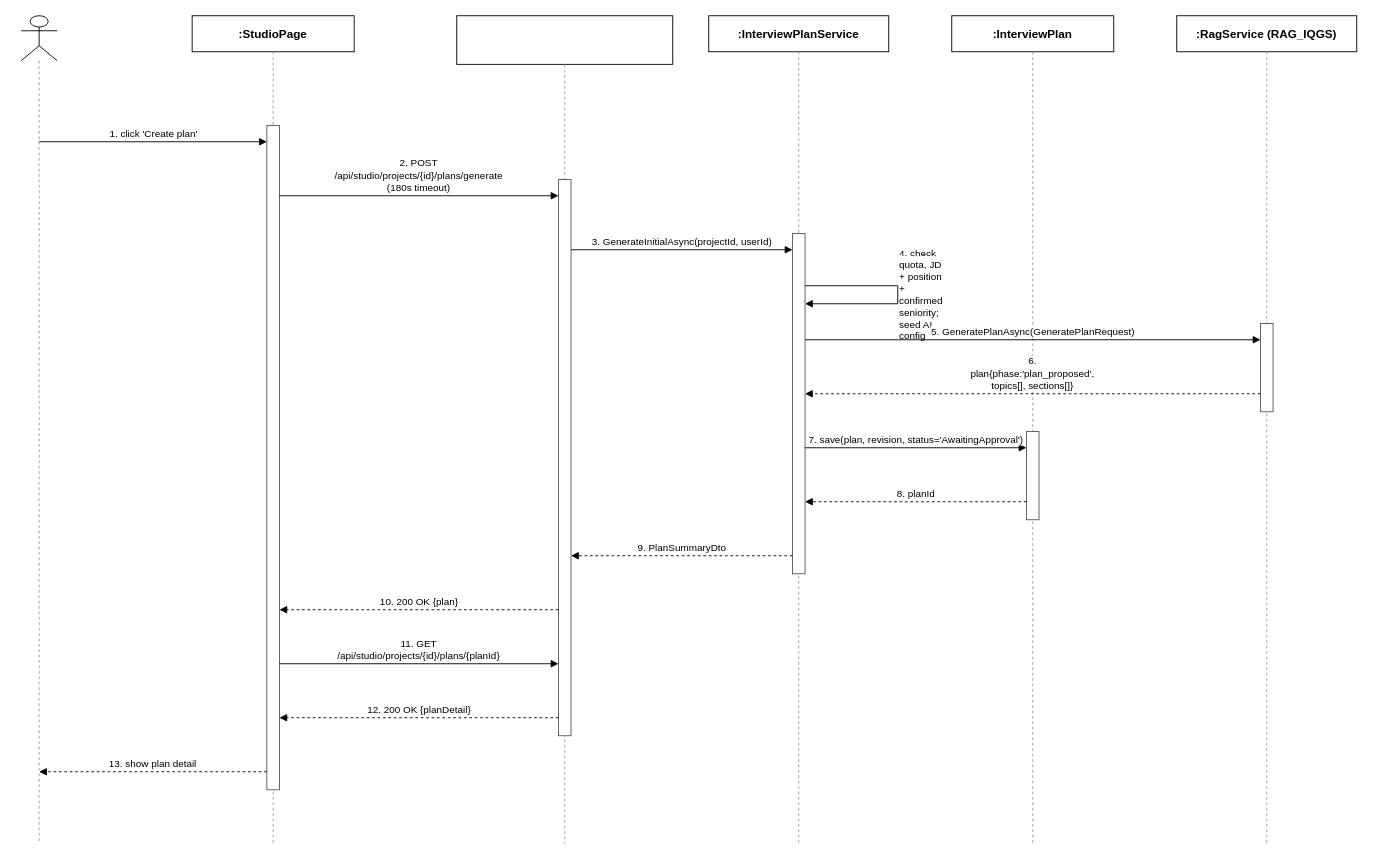
This 1373x860 diagram has some shape labels left out. The shapes that lost their labels are listed below. From the top down, each one's box as (x1, y1, x2, y2) in pixels, then its label:
(20, 15, 57, 61): HR Manager
(456, 15, 673, 64): :StudioInterviewPlansController
